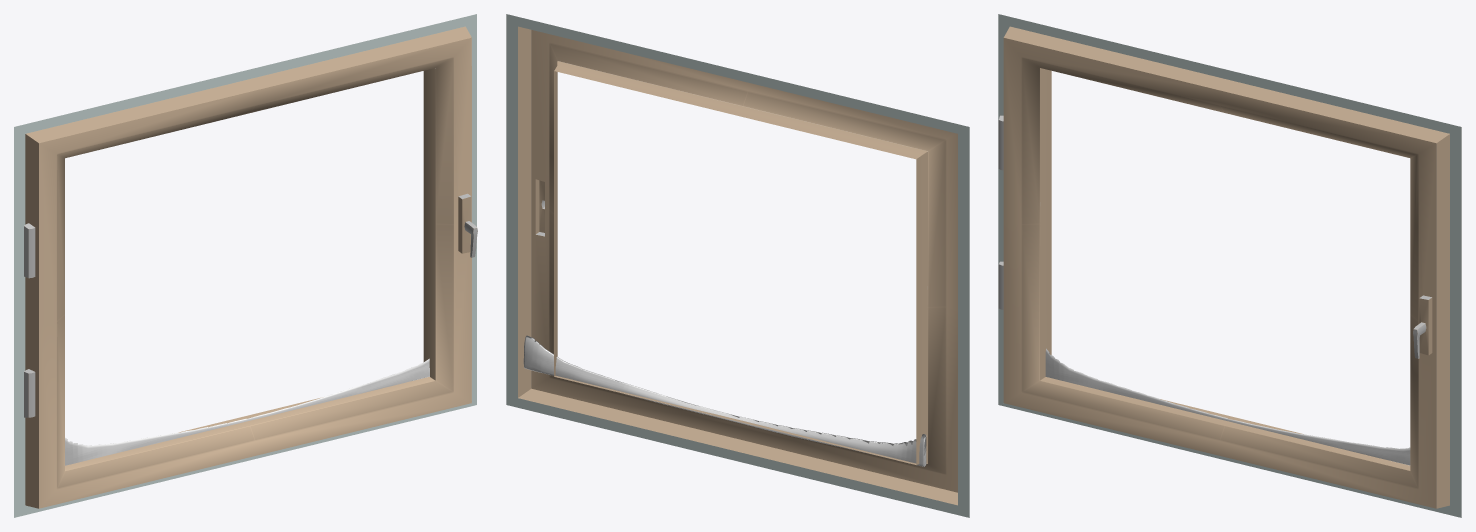
The model's file is windowFrame.fbx.
3 views of the same model, side by side, from view 1: azimuth 30°, elevation 25°; view 2: azimuth 150°, elevation 25°; view 3: azimuth 330°, elevation 25° (orthographic).
Parts seen in each view (by area): view 1: polySurface2; view 2: polySurface2; view 3: polySurface2.
Boxes of the visible parts, x1,y1,x2,y2 form: polySurface2: (14, 14, 477, 517); polySurface2: (506, 14, 969, 517); polySurface2: (998, 14, 1461, 517).
Bounding box in the file's own units: 8.17 × 6.59 × 0.7708.
Materials: 1 (1 with a texture image).
